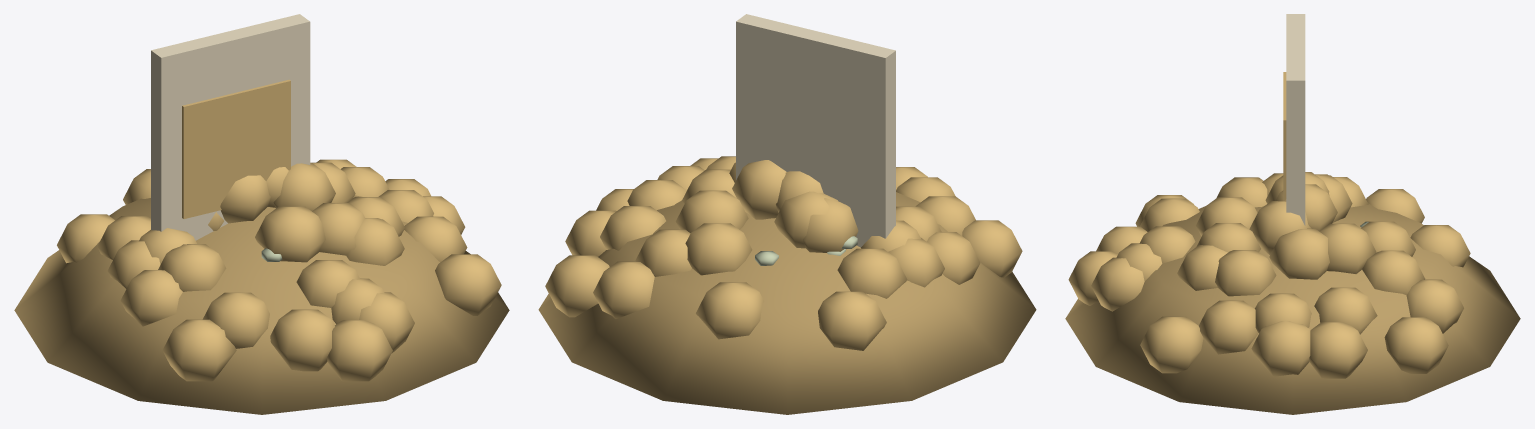
The model's file is Veg_Chickpea.fbx.
3 views of the same model, side by side, from view 1: azimuth 30°, elevation 25°; view 2: azimuth 150°, elevation 25°; view 3: azimuth 270°, elevation 25° (orthographic). The views are drawn at different scales.
Parts seen in each view (by area): view 1: Veg_Chickpea__Stack, Veg_Chickpea__Seed; view 2: Veg_Chickpea__Stack, Veg_Chickpea__Seed, Veg_Chickpea__Rotten; view 3: Veg_Chickpea__Stack, Veg_Chickpea__Seed.
Boxes of the visible parts, x1,y1,x2,y2 form: Veg_Chickpea__Stack: [14, 159, 509, 414]; Veg_Chickpea__Seed: [151, 14, 310, 240]; Veg_Chickpea__Stack: [538, 156, 1036, 414]; Veg_Chickpea__Seed: [736, 14, 895, 247]; Veg_Chickpea__Rotten: [755, 236, 857, 265]; Veg_Chickpea__Stack: [1065, 172, 1520, 414]; Veg_Chickpea__Seed: [1283, 14, 1305, 225].
Bounding box in the file's own units: 0.144 × 0.09 × 0.144.
